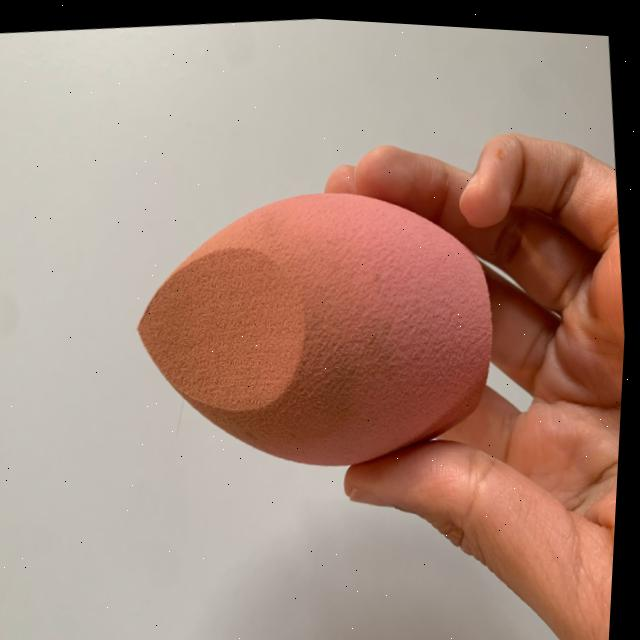beauty blender: (113, 149, 530, 501)
